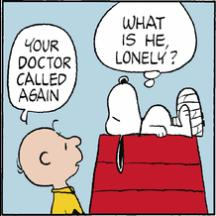charlie: (14, 118, 84, 216)
snoopy: (104, 76, 204, 174)
